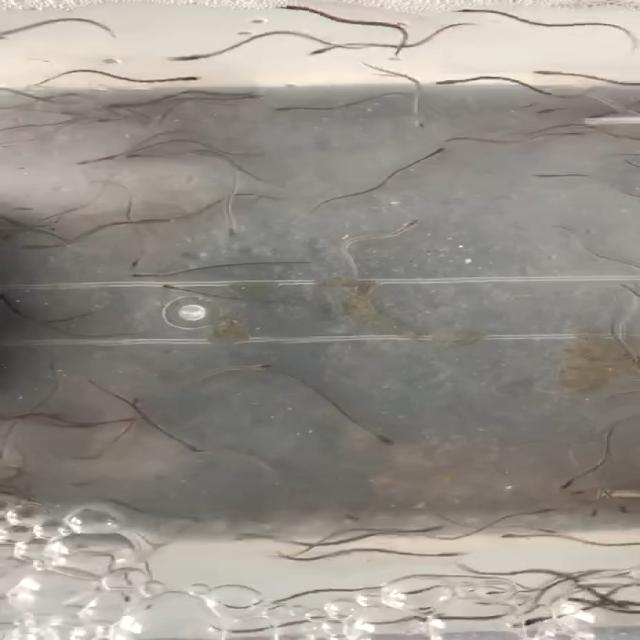active_glass_eel: (235, 354, 289, 382), (196, 224, 258, 247), (353, 434, 408, 456), (544, 592, 600, 613), (145, 207, 188, 234), (393, 580, 435, 606), (150, 50, 212, 67), (297, 40, 339, 64), (379, 216, 434, 234), (516, 166, 561, 186), (506, 615, 550, 634), (408, 518, 456, 534), (514, 104, 568, 118), (119, 272, 171, 286), (154, 68, 196, 85), (64, 446, 103, 464), (117, 254, 167, 268), (552, 125, 605, 138), (1, 242, 58, 254), (402, 117, 440, 135), (421, 550, 469, 564), (142, 283, 198, 295), (419, 77, 462, 91), (59, 157, 105, 170), (258, 104, 312, 115), (421, 145, 458, 161), (516, 504, 558, 518), (537, 479, 575, 494), (448, 5, 480, 22), (528, 66, 568, 79), (603, 598, 635, 614), (182, 442, 211, 459), (570, 482, 610, 494), (54, 106, 78, 126), (85, 115, 117, 129), (526, 528, 562, 540), (255, 4, 307, 12), (102, 96, 124, 114), (576, 508, 600, 524), (116, 152, 148, 164), (121, 414, 148, 428), (612, 502, 640, 514), (494, 532, 517, 540)
